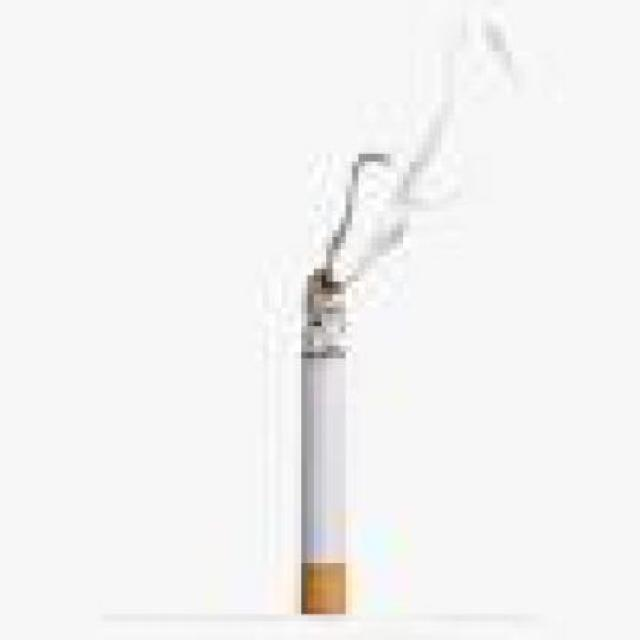cigarette: (307, 268, 365, 614)
